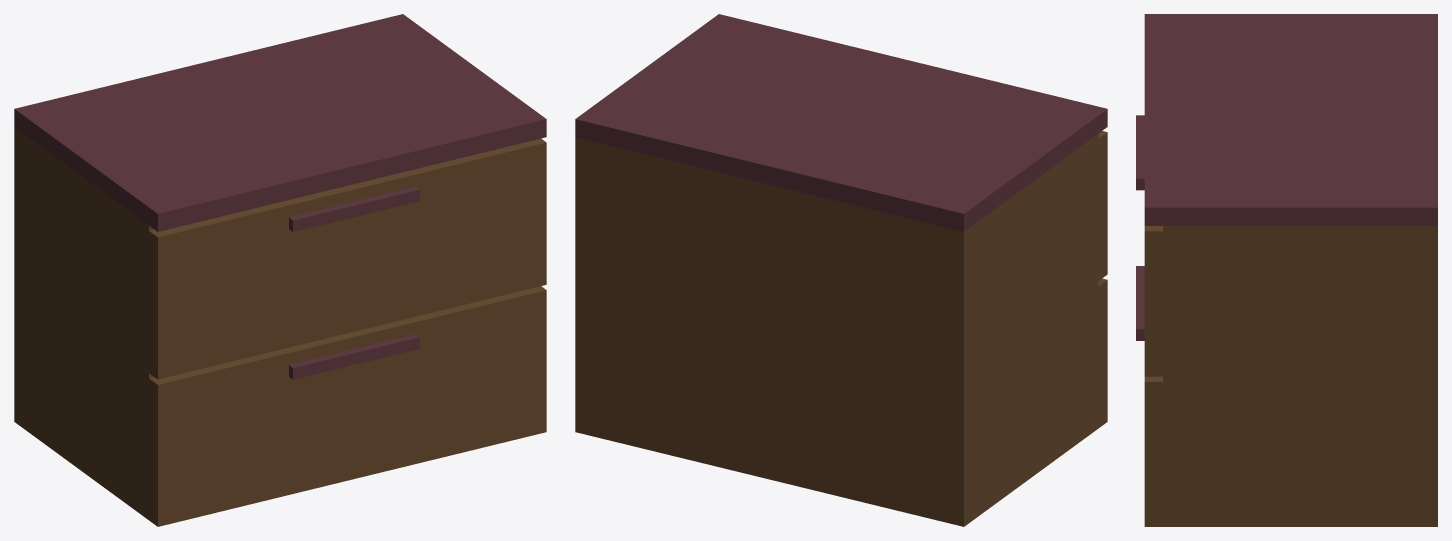
Rendered from furniture-cabinet-bathroom-modern.glb.
The picture shows the model from 3 angles, left to right: view 1: azimuth 30°, elevation 25°; view 2: azimuth 150°, elevation 25°; view 3: azimuth 270°, elevation 25°; orthographic projection. The views are drawn at different scales.
Parts seen in each view (by area): view 1: cabinet-bathroom-modern; view 2: cabinet-bathroom-modern; view 3: cabinet-bathroom-modern.
Boxes of the visible parts, x1,y1,x2,y2 form: cabinet-bathroom-modern: (14, 14, 546, 526); cabinet-bathroom-modern: (575, 14, 1107, 526); cabinet-bathroom-modern: (1136, 14, 1437, 526).
Bounding box in the file's own units: 0.8 × 0.6155 × 0.5269.
